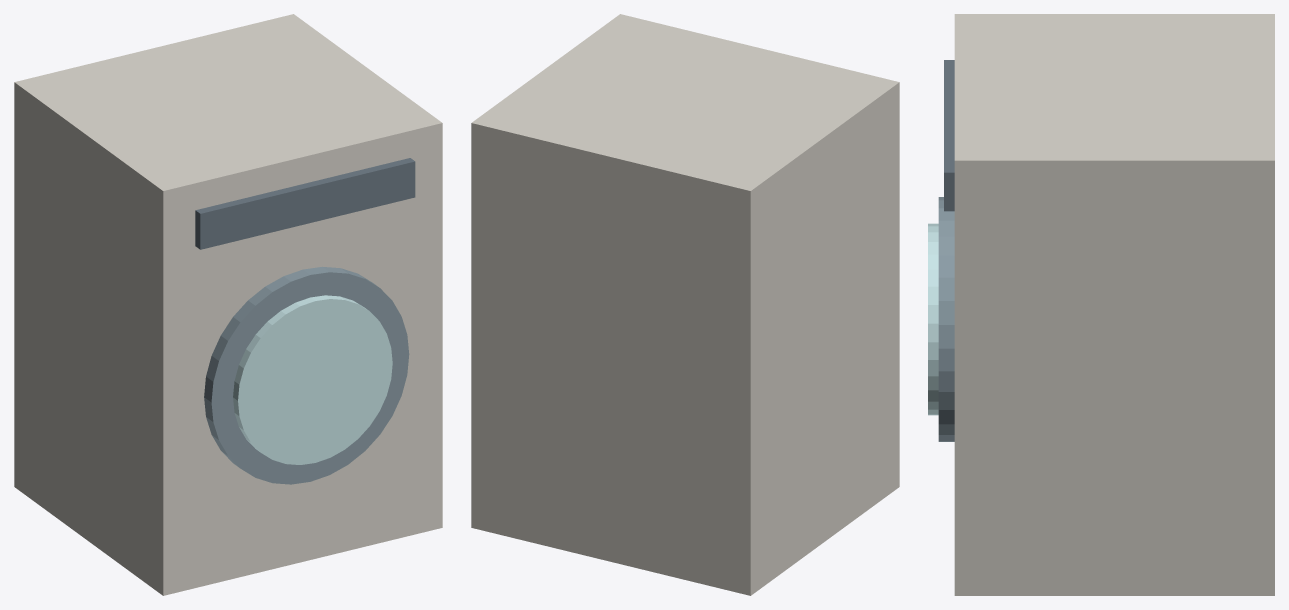
Rendered from washing_machine.glb.
3 renders of one model, left to right at view 1: azimuth 30°, elevation 25°; view 2: azimuth 150°, elevation 25°; view 3: azimuth 270°, elevation 25°, orthographic. The views are drawn at different scales.
Visible parts, largest first — view 1: washing_machine_000, washing_machine_002, washing_machine_001, washing_machine_003; view 2: washing_machine_000; view 3: washing_machine_000, washing_machine_001, washing_machine_002, washing_machine_003.
Boxes of the visible parts, left/top/right/bottom form: washing_machine_000: left=14, top=14, right=442, bottom=595; washing_machine_002: left=233, top=295, right=392, bottom=464; washing_machine_001: left=204, top=266, right=409, bottom=484; washing_machine_003: left=195, top=158, right=415, bottom=249; washing_machine_000: left=471, top=14, right=899, bottom=595; washing_machine_000: left=954, top=14, right=1274, bottom=595; washing_machine_001: left=938, top=197, right=954, bottom=441; washing_machine_002: left=928, top=223, right=938, bottom=415; washing_machine_003: left=944, top=60, right=954, bottom=211.
Size of the model in its own units: 0.65 by 0.9 by 0.65.
